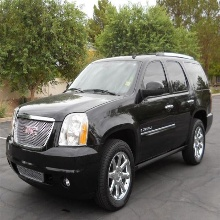no damage: (6, 52, 214, 211)
